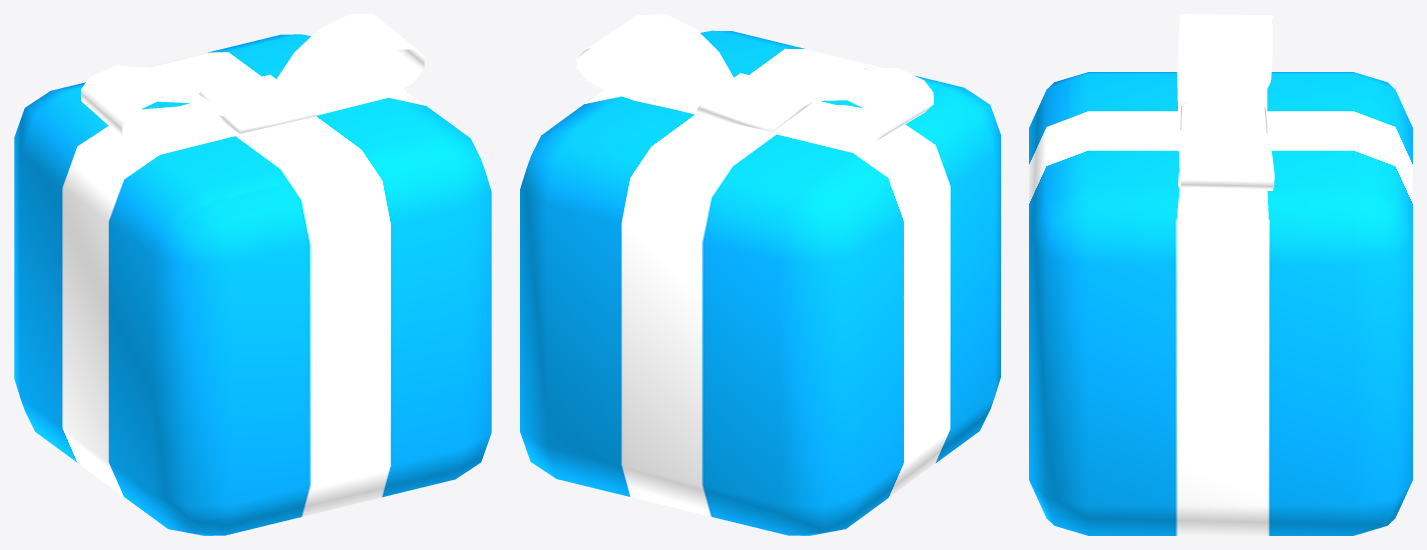
The model's file is blue_gift.glb.
3 renders of one model, left to right at view 1: azimuth 30°, elevation 25°; view 2: azimuth 150°, elevation 25°; view 3: azimuth 270°, elevation 25°, orthographic.
Parts seen in each view (by area): view 1: Blue_Gift; view 2: Blue_Gift; view 3: Blue_Gift.
Boxes of the visible parts, left/top/right/bottom form: Blue_Gift: left=14, top=14, right=491, bottom=535; Blue_Gift: left=520, top=14, right=1000, bottom=535; Blue_Gift: left=1029, top=14, right=1412, bottom=535.
Size of the model in its own units: 0.4562 by 0.5279 by 0.4562.
Materials: 1 (1 with a texture image).
